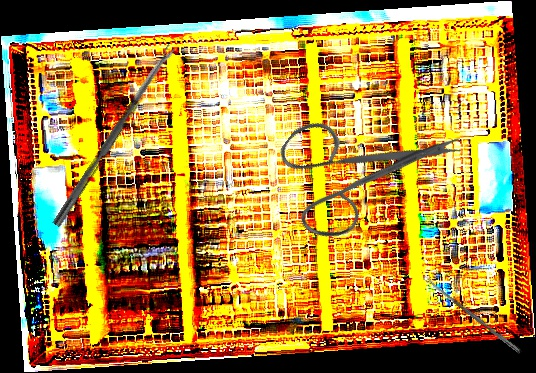Iris Scissors: (251, 54, 468, 275)
Surgical Spoon: (52, 43, 177, 229), (422, 274, 523, 355)
